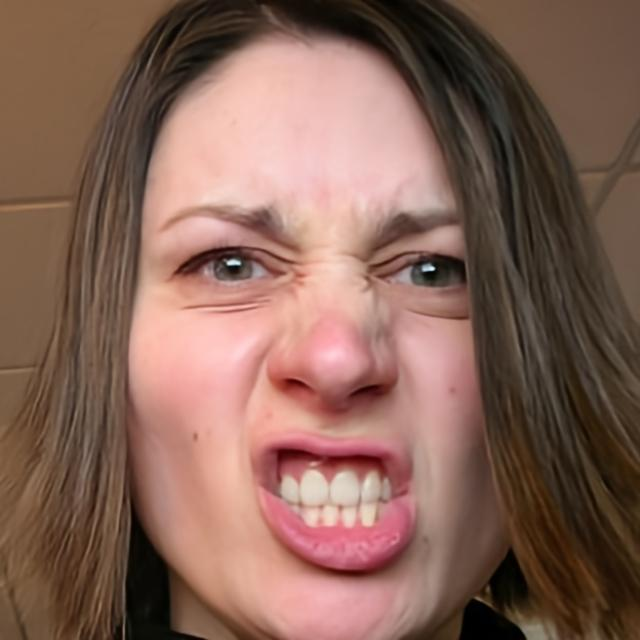disgust: (121, 28, 515, 640)
